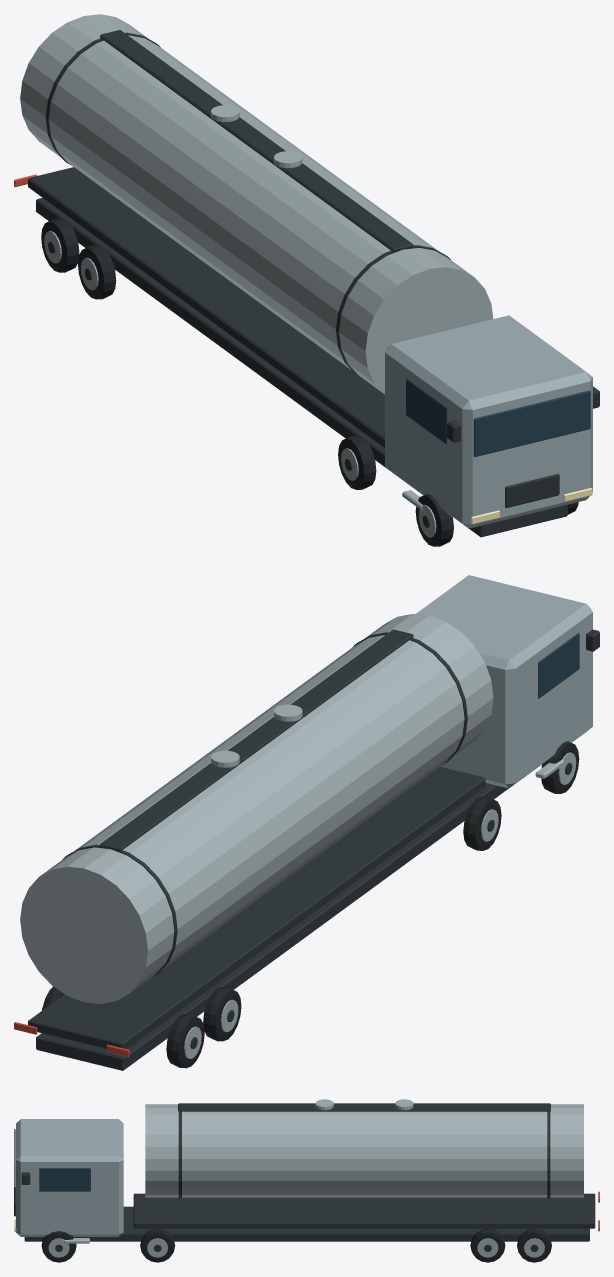
File: trailer-tanker-06.glb
3 views of the same model, one above another, from view 1: azimuth 30°, elevation 25°; view 2: azimuth 150°, elevation 25°; view 3: azimuth 270°, elevation 25° (orthographic). The views are drawn at different scales.
Visible parts, largest first — view 1: Tank, Cab, TrailerFrame, Chassis, TankWalkway, Glass_Windscreen, CabWindow, Tyre_2R, Tyre_RR, Tyre_3R, Grille, Tyre_FR (+1 smaller); view 2: Tank, TrailerFrame, Cab, Chassis, TankWalkway, CabWindow, Tyre_3R, Tyre_RR, Tyre_2R, Tyre_FR, TankBand.001, TankBand; view 3: Tank, TrailerFrame, Cab, Chassis, TankWalkway, CabWindow.001, Tyre_2L, Tyre_RL, Tyre_3L, Tyre_FL, TankBand, TankBand.001 (+4 smaller).
Boxes of the visible parts, x1,y1,x2,y2 form: Tank: (20,14,493,394); Cab: (385,315,592,528); TrailerFrame: (28,167,384,447); Chassis: (36,198,567,537); TankWalkway: (100,30,413,251); Glass_Windscreen: (473,390,590,456); CabWindow: (406,378,447,444); Tyre_2R: (78,245,116,299); Tyre_RR: (338,435,376,489); Tyre_3R: (41,218,79,272); Grille: (505,474,559,507); Tyre_FR: (415,494,453,546); Tank: (20,614,493,1003); TrailerFrame: (28,766,485,1048); Cab: (416,575,592,788); Chassis: (36,783,508,1070); TankWalkway: (100,629,413,851); CabWindow: (538,632,579,698); Tyre_3R: (166,1014,204,1068); Tyre_RR: (463,796,501,850); Tyre_2R: (203,987,241,1041); Tyre_FR: (541,741,579,793); TankBand.001: (62,844,177,977); TankBand: (353,632,467,765); Tank: (145,1104,583,1197); TrailerFrame: (133,1193,595,1228); Cab: (16,1119,123,1236); Chassis: (24,1206,589,1241); TankWalkway: (178,1103,550,1111); CabWindow.001: (39,1168,90,1191); Tyre_2L: (470,1228,505,1262); Tyre_RL: (140,1228,175,1262); Tyre_3L: (517,1228,551,1262); Tyre_FL: (41,1231,76,1262); TankBand: (178,1111,181,1198); TankBand.001: (547,1111,550,1198).
Size of the model in its own units: 2.71 by 3.84 by 14.68.
